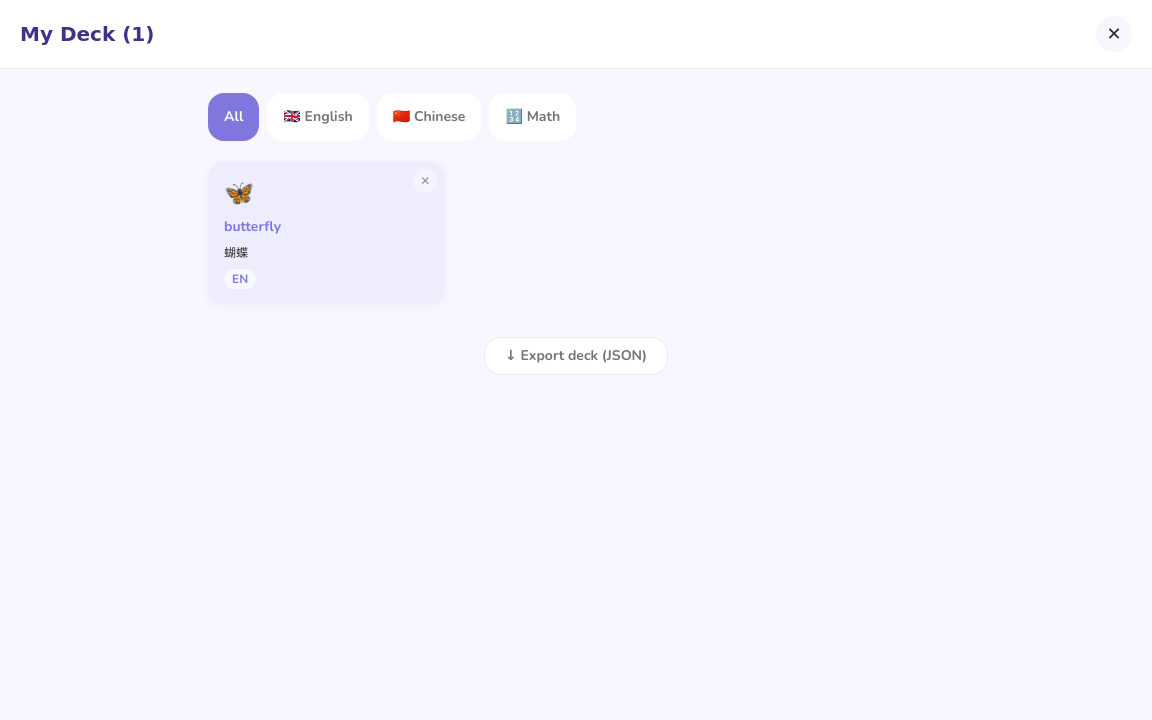
Test: DeckView — with cards › clicking ✕ on a card reveals confirm/cancel buttons
Click the 2nd button "✕". click: point(425, 181)
box: x1=413 y1=169 x2=437 y2=193
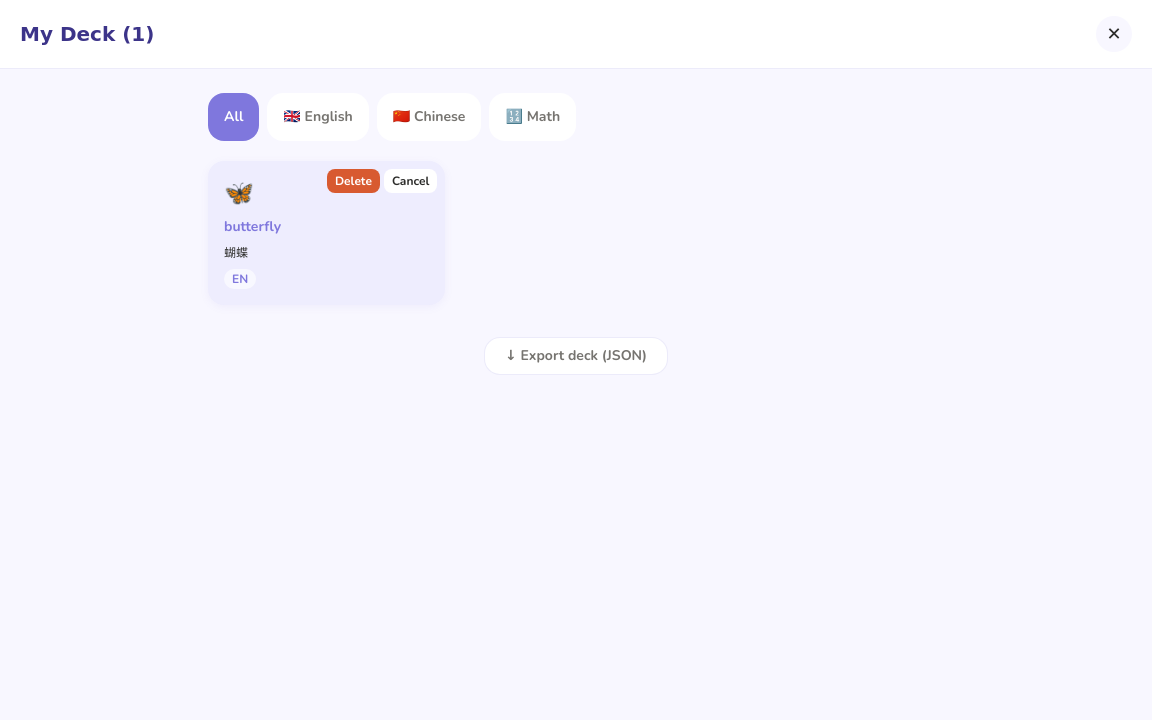
Check: the button "Delete" is shown, box x1=327 y1=169 x2=380 y2=193
Check: the button "Cancel" is shown, box x1=384 y1=169 x2=437 y2=193
